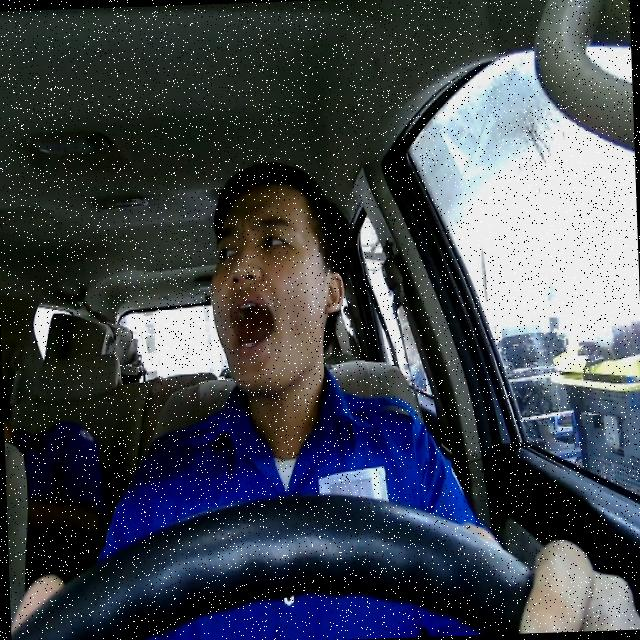yarning: (206, 175, 347, 397)
